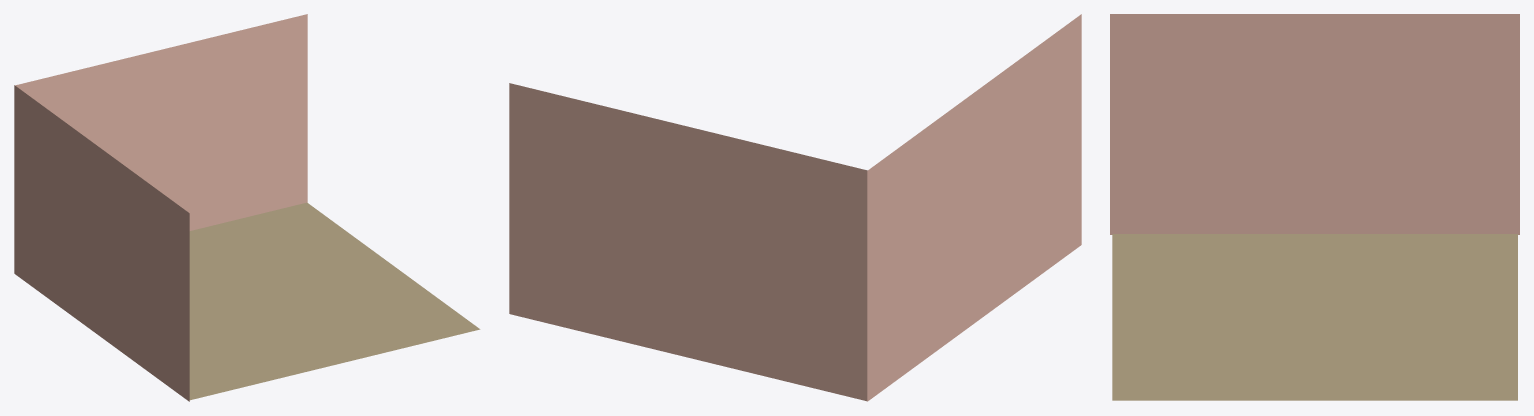
The model's file is room.glb.
3 views of the same model, side by side, from view 1: azimuth 30°, elevation 25°; view 2: azimuth 150°, elevation 25°; view 3: azimuth 270°, elevation 25° (orthographic). The views are drawn at different scales.
Parts seen in each view (by area): view 1: wall1, floor, wall2; view 2: wall1, wall2; view 3: wall2, floor.
Part boxes in pixels (x1,y1,x2,y2): wall1: [15, 14, 307, 230]; floor: [189, 202, 480, 400]; wall2: [14, 85, 189, 401]; wall1: [509, 83, 867, 401]; wall2: [867, 14, 1081, 401]; wall2: [1110, 14, 1519, 234]; floor: [1112, 234, 1517, 400].
Bounding box in the file's own units: 15.42 × 9.5 × 15.98.
